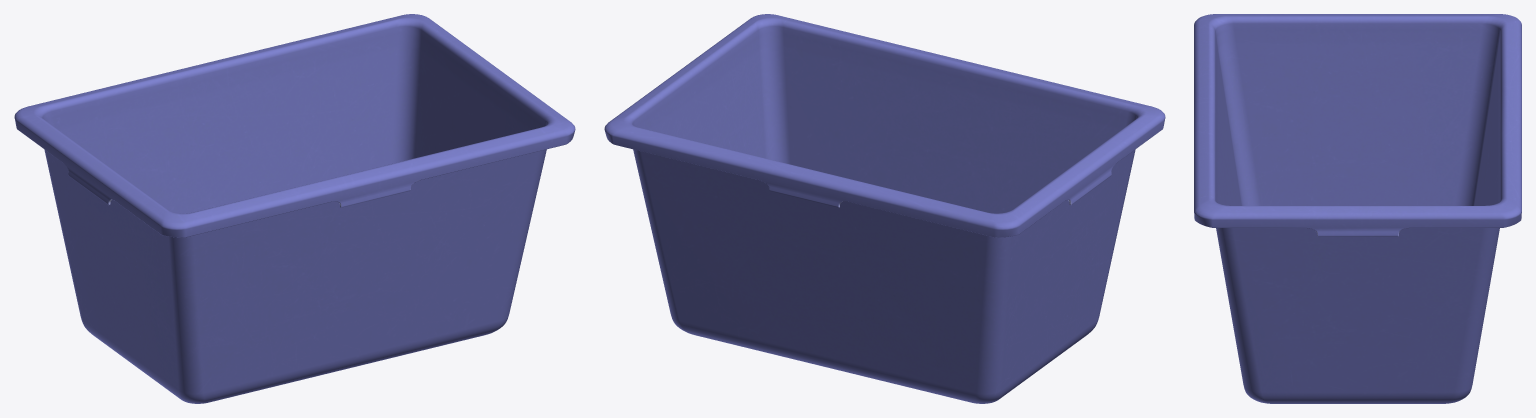
Rendered from plastic_crate.glb.
3 views of the same model, side by side, from view 1: azimuth 30°, elevation 25°; view 2: azimuth 150°, elevation 25°; view 3: azimuth 270°, elevation 25° (orthographic).
Visible parts, largest first — view 1: defaultobject; view 2: defaultobject; view 3: defaultobject.
Boxes of the visible parts, box(x1,y1,x2,y2) form: defaultobject: box(14, 14, 575, 403); defaultobject: box(604, 14, 1165, 403); defaultobject: box(1194, 14, 1521, 403).
Bounding box in the file's own units: 5737 × 2907 × 3907.
1 material, 1 textured.
